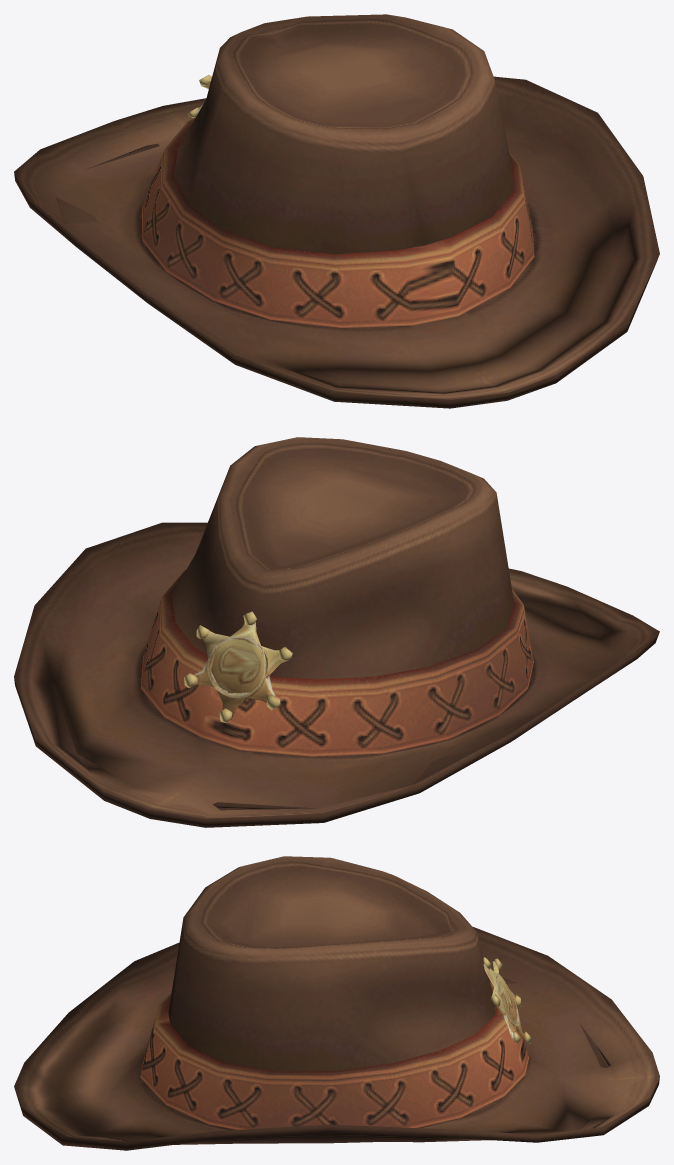
The model's file is WesternSheriffHat_Ground.fbx.
3 views of the same model, one above another, from view 1: azimuth 30°, elevation 25°; view 2: azimuth 150°, elevation 25°; view 3: azimuth 270°, elevation 25° (orthographic). The views are drawn at different scales.
Parts seen in each view (by area): view 1: 24_star_1_0_0; view 2: 24_star_1_0_0; view 3: 24_star_1_0_0.
Part boxes in pixels (x1,y1,x2,y2): 24_star_1_0_0: (14,14,659,408); 24_star_1_0_0: (14,437,659,827); 24_star_1_0_0: (14,856,659,1150).
Bounding box in the file's own units: 0.1923 × 0.0784 × 0.2331.
